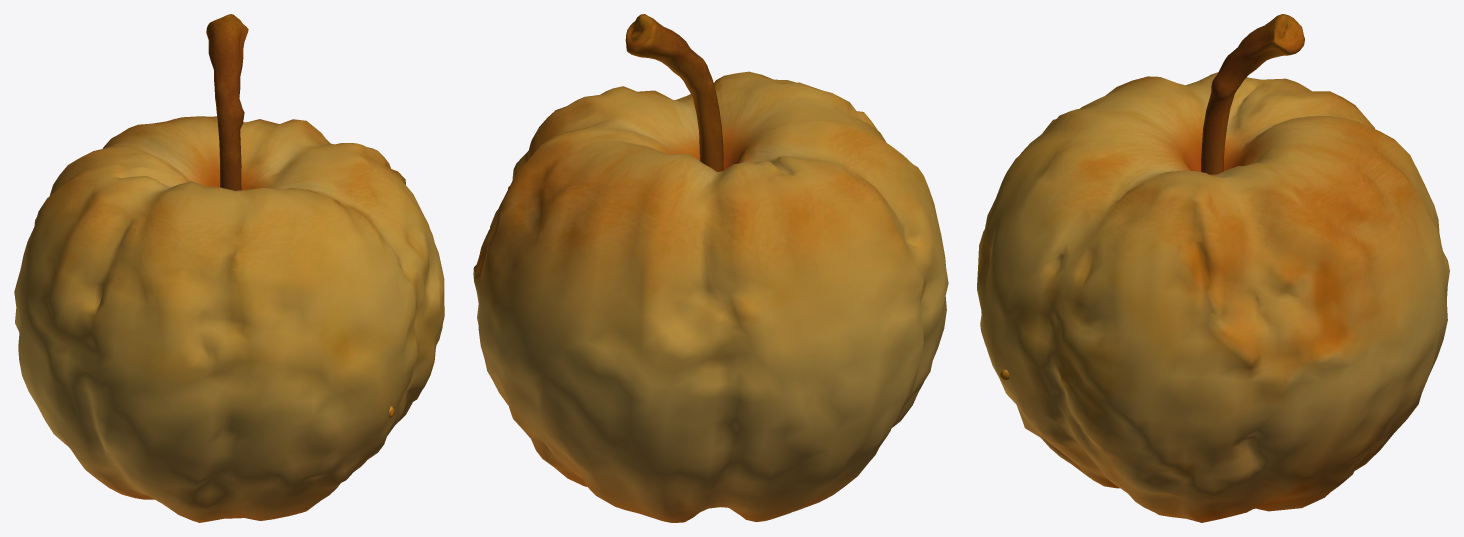
The picture shows the model from 3 angles, left to right: view 1: azimuth 30°, elevation 25°; view 2: azimuth 150°, elevation 25°; view 3: azimuth 270°, elevation 25°; orthographic projection. The views are drawn at different scales.
Visible parts, largest first — view 1: tripo_node_3b90039d-8096-4782-bad0-da614c730e6f; view 2: tripo_node_3b90039d-8096-4782-bad0-da614c730e6f; view 3: tripo_node_3b90039d-8096-4782-bad0-da614c730e6f.
Part boxes in pixels (x1,y1,x2,y2): tripo_node_3b90039d-8096-4782-bad0-da614c730e6f: (14,14,444,522); tripo_node_3b90039d-8096-4782-bad0-da614c730e6f: (473,14,948,522); tripo_node_3b90039d-8096-4782-bad0-da614c730e6f: (977,14,1449,522).
Bounding box in the file's own units: 0.8787 × 1 × 0.8885.
1 material, 1 textured.
